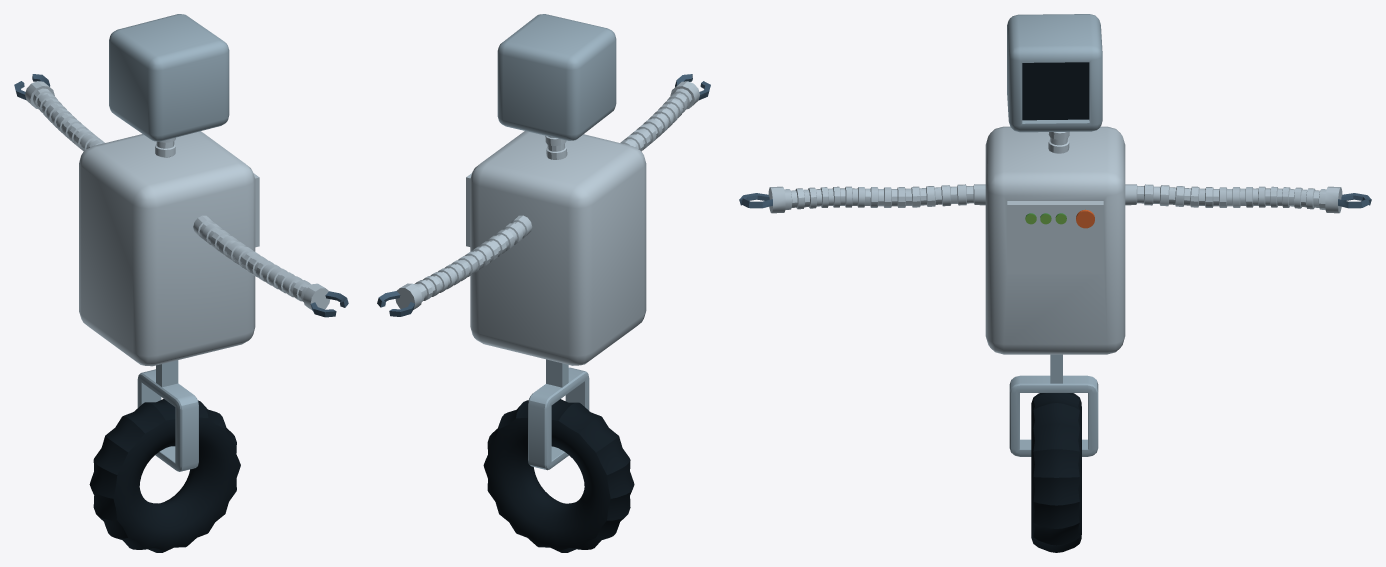
The model's file is wheelbot.fbx.
The picture shows the model from 3 angles, left to right: view 1: azimuth 30°, elevation 25°; view 2: azimuth 150°, elevation 25°; view 3: azimuth 270°, elevation 25°; orthographic projection.
Parts seen in each view (by area): view 1: Torus.001; view 2: Torus.001; view 3: Torus.001.
Part boxes in pixels (left/top/right/bottom): Torus.001: left=14, top=14, right=348, bottom=552; Torus.001: left=377, top=14, right=710, bottom=552; Torus.001: left=739, top=14, right=1371, bottom=552.
Bounding box in the file's own units: 44.05 × 150 × 167.
